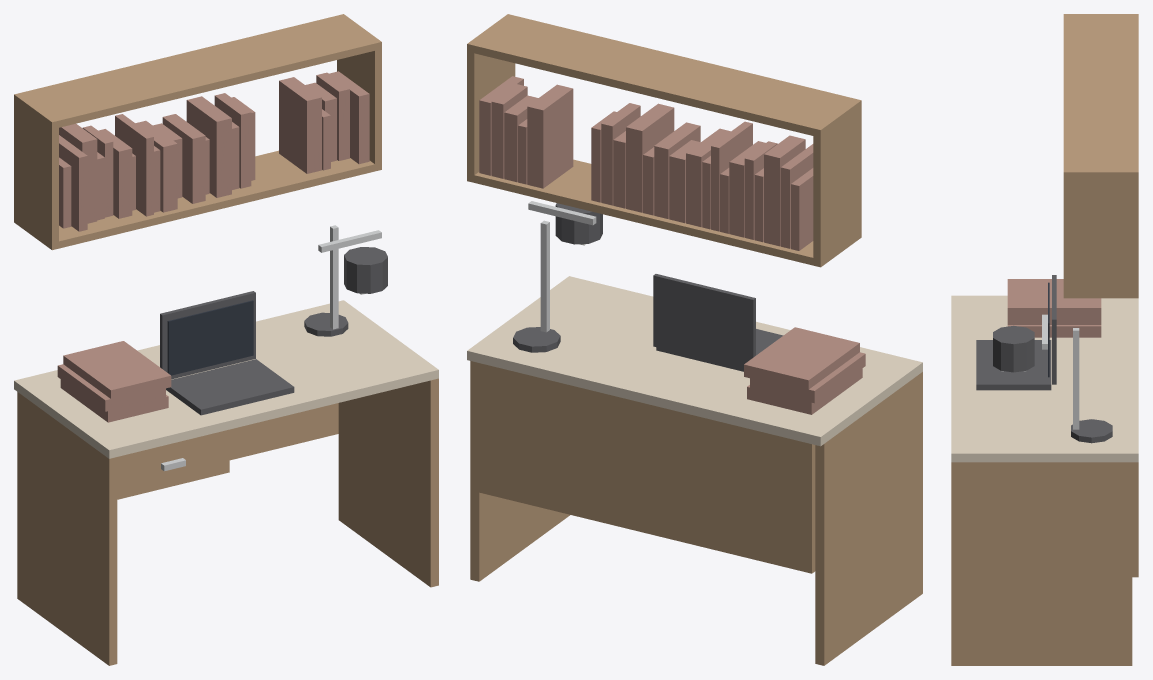
File: Study_Table.fbx
3 renders of one model, left to right at view 1: azimuth 30°, elevation 25°; view 2: azimuth 150°, elevation 25°; view 3: azimuth 270°, elevation 25°, orthographic. The views are drawn at different scales.
Parts seen in each view (by area): view 1: Study_Table; view 2: Study_Table; view 3: Study_Table.
Boxes of the visible parts, bbox=[...] form: Study_Table: bbox=[14, 14, 438, 665]; Study_Table: bbox=[467, 14, 922, 665]; Study_Table: bbox=[951, 14, 1138, 665].
Bounding box in the file's own units: 1.2 × 1.75 × 0.6.
